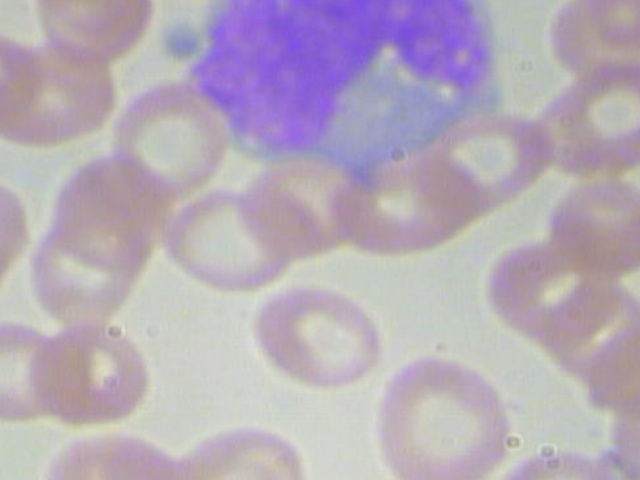RBC: (368, 350, 517, 480), (238, 276, 388, 390), (18, 319, 168, 432), (40, 153, 180, 270), (170, 184, 297, 297), (0, 42, 115, 147), (542, 164, 640, 277), (0, 315, 81, 429), (542, 0, 640, 75), (0, 28, 49, 133), (0, 164, 34, 269), (0, 212, 12, 329)
WBC: (198, 0, 509, 185)
